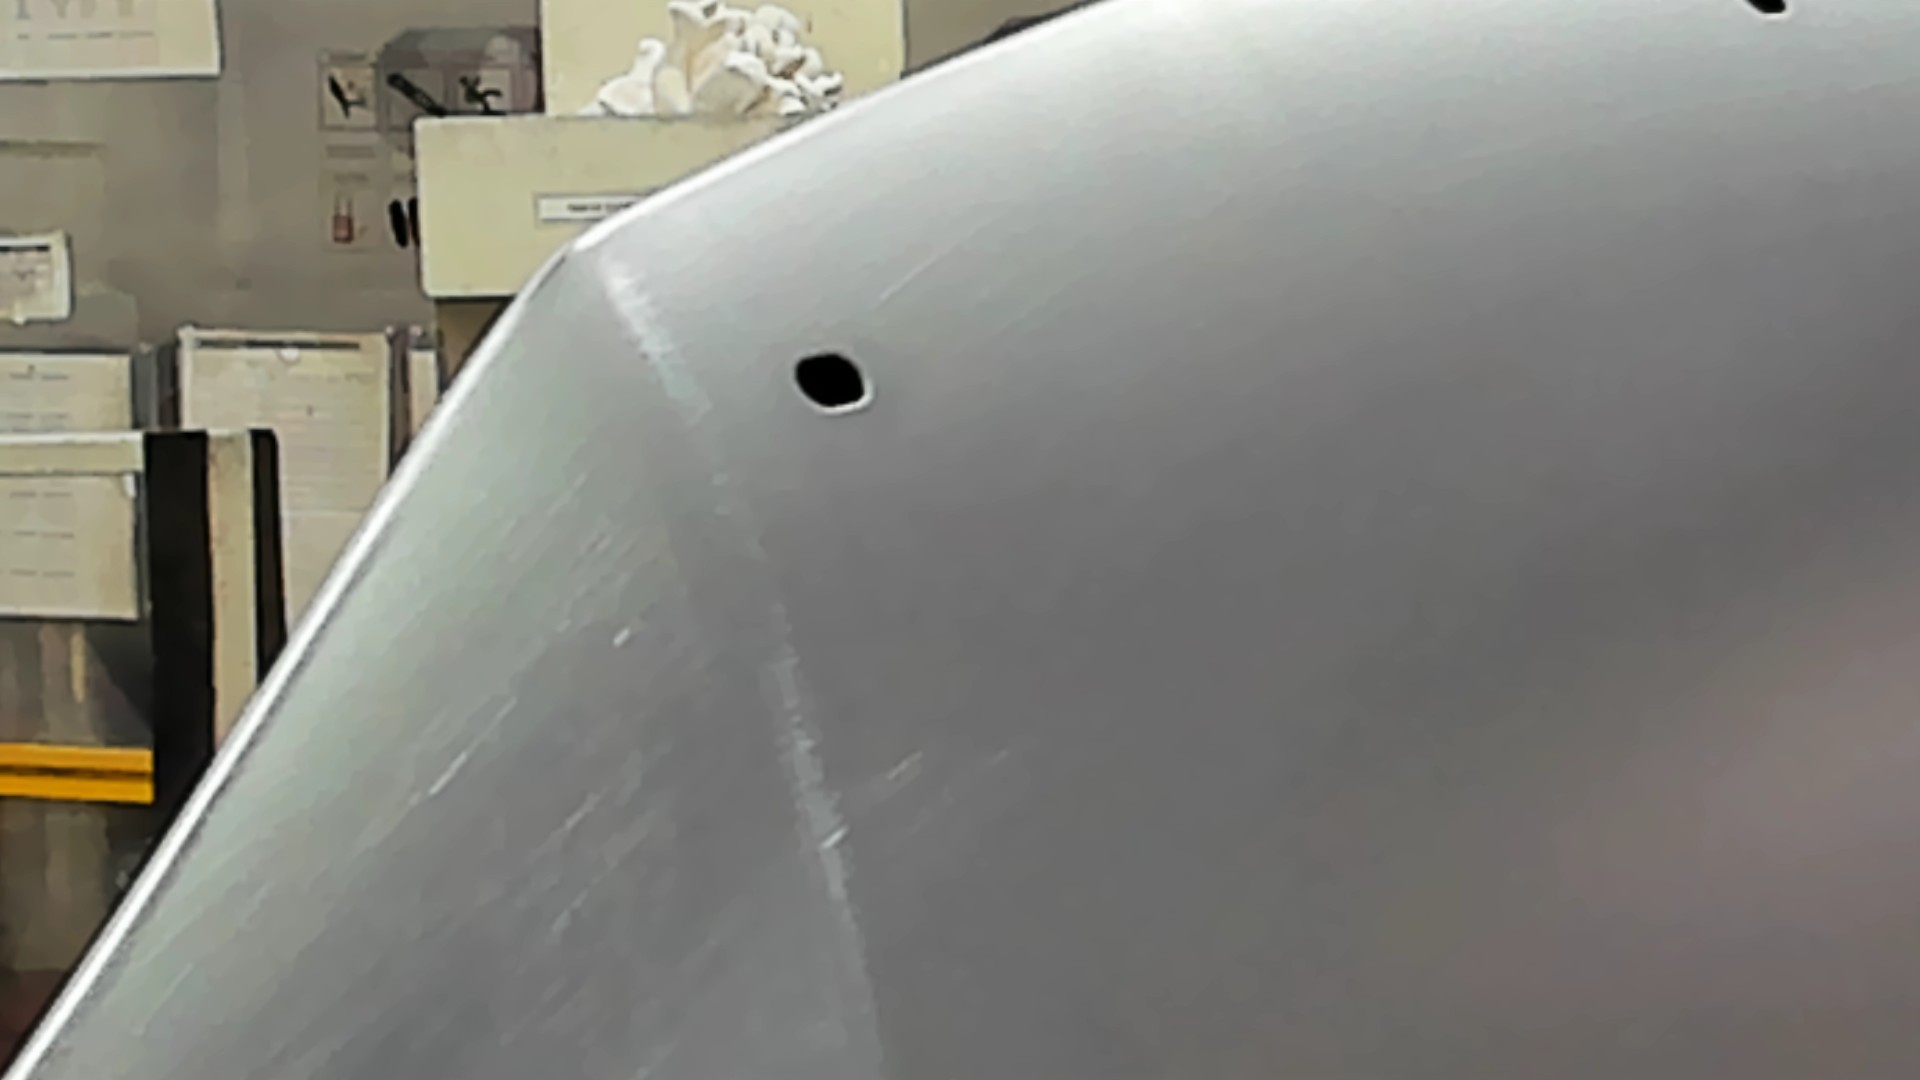amorfo: (787, 345, 886, 426)
capo: (978, 78, 1920, 1080)
